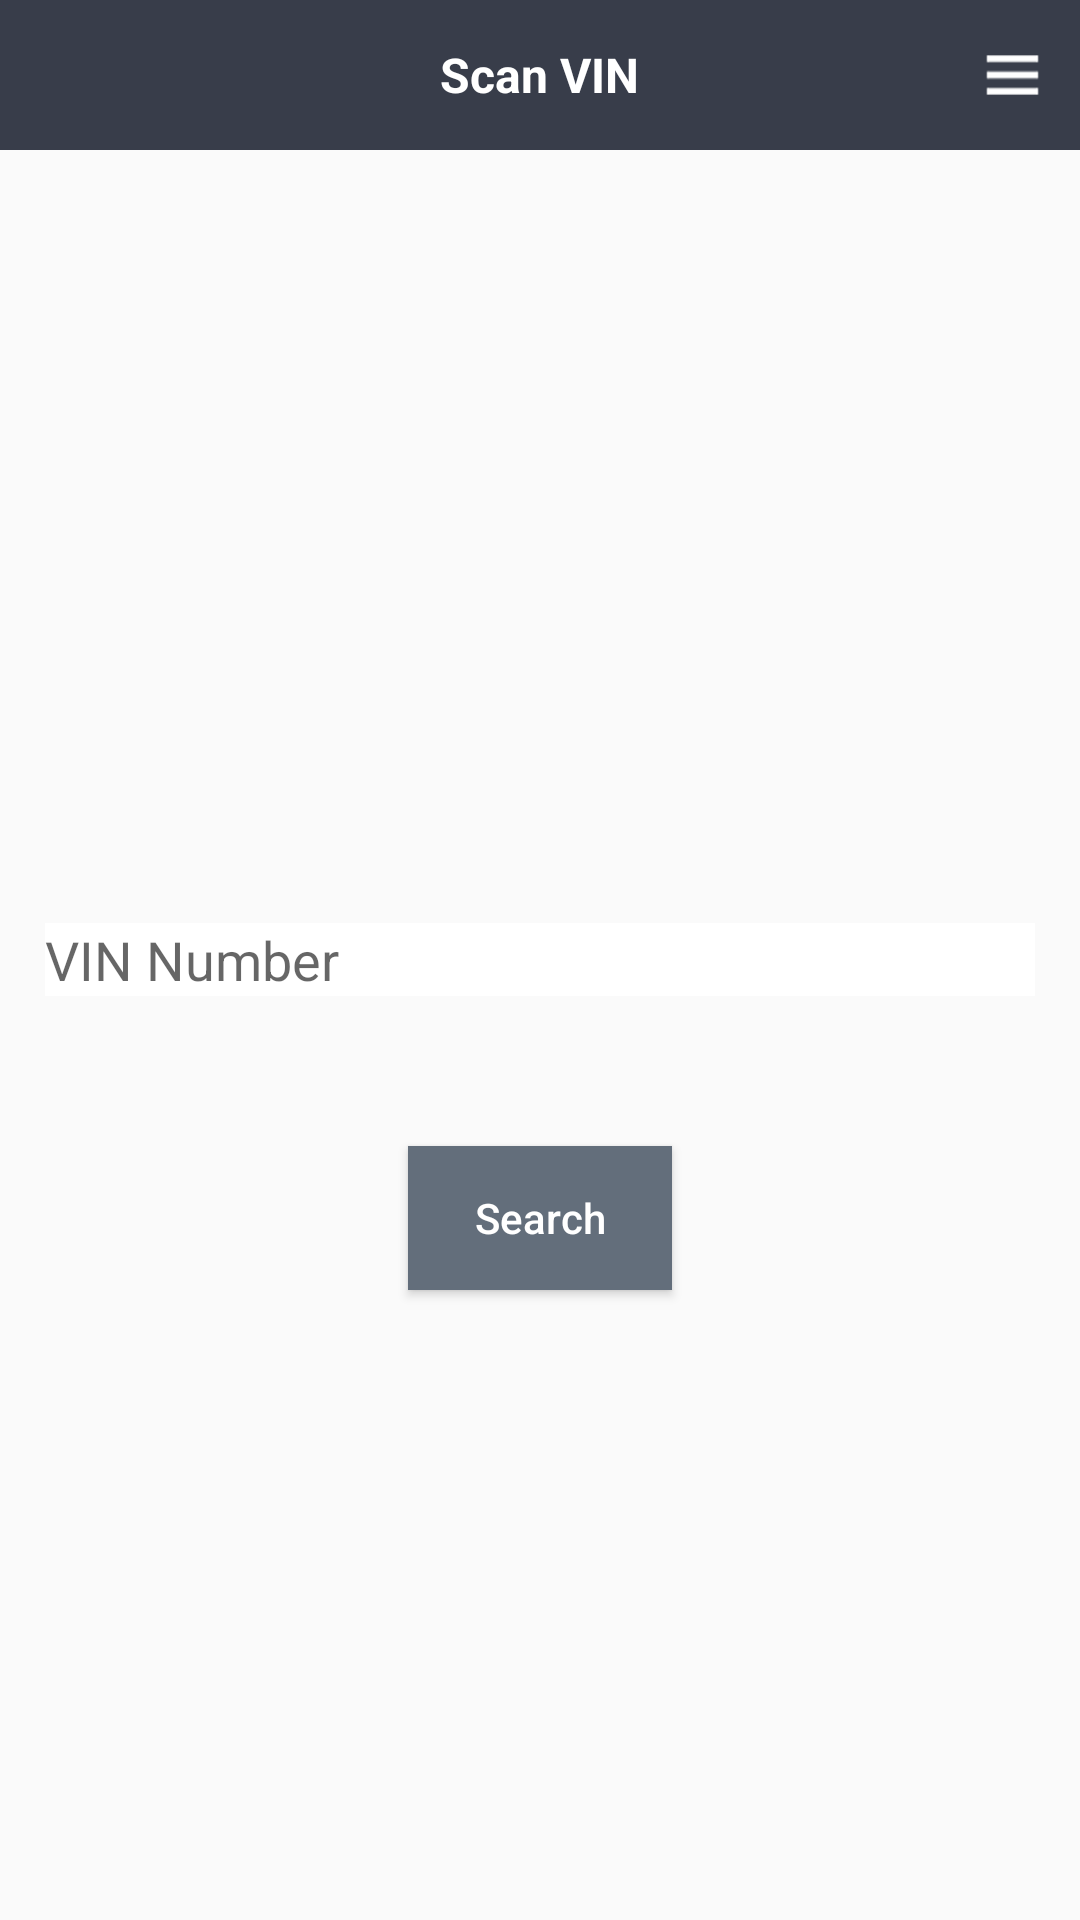

Icons on this 1080w x 1920h Android screen, each with the point to tap as (x=x, y=y):
menu: (x=1012, y=75)
